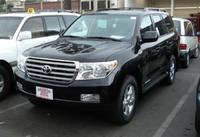car: (17, 8, 181, 120)
